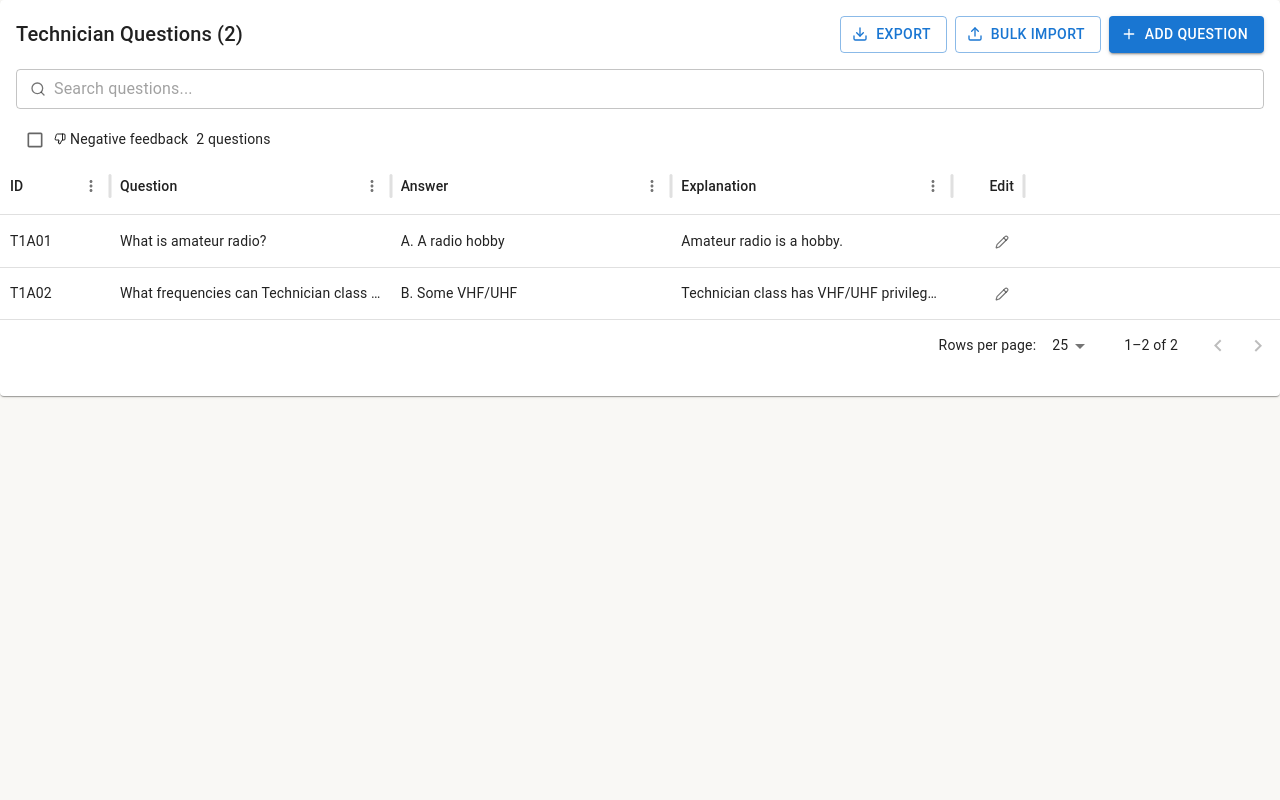
Scenario: AdminQuestions › Edit Question Dialog › should show "No topics linked" when question has no linked topics
Expected: the text "T1A02" is shown, [0, 266, 110, 318]
Click the button named "Edit T1A02": (1002, 294) [990, 282, 1014, 306]
(page scrolled)
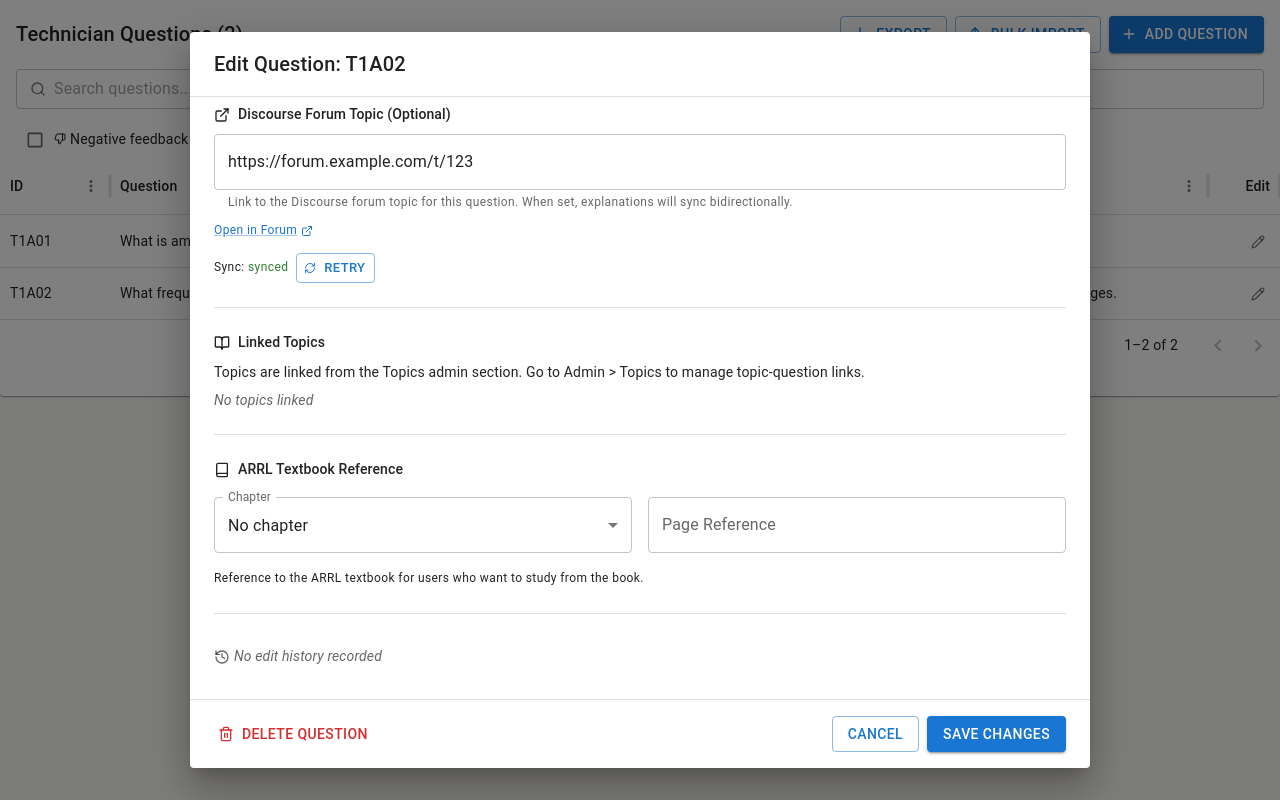
Expected: the text "No topics linked" is shown, [214, 392, 314, 408]
